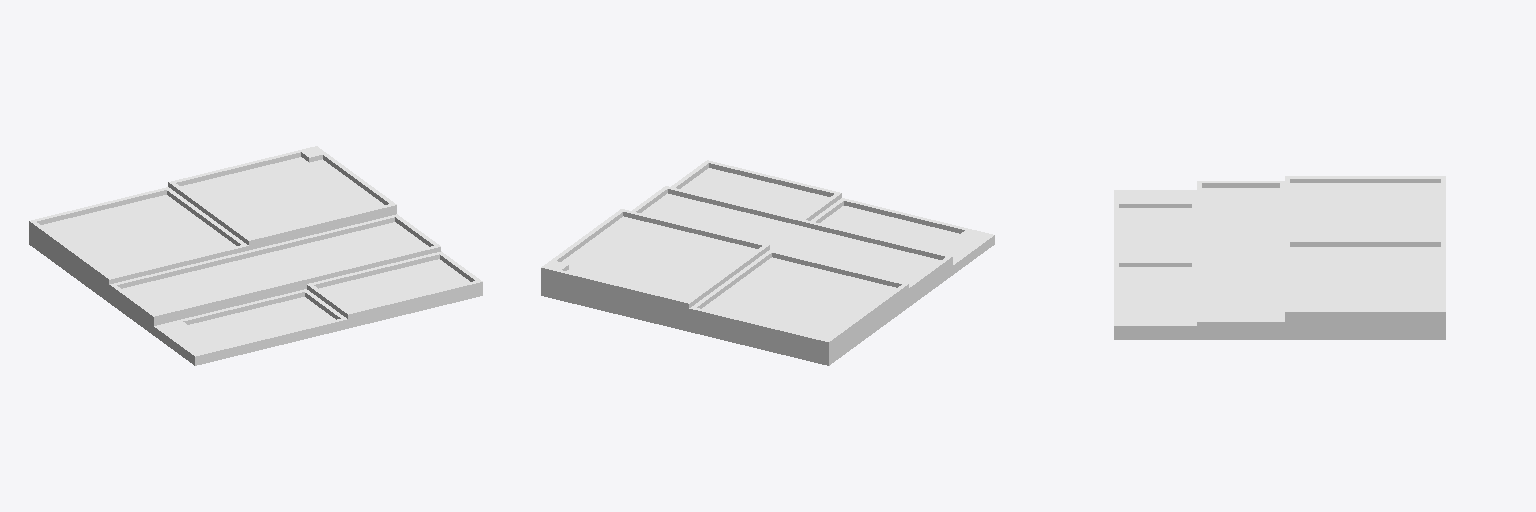
The model's file is world1_1.obj.
3 renders of one model, left to right at view 1: azimuth 30°, elevation 25°; view 2: azimuth 150°, elevation 25°; view 3: azimuth 270°, elevation 25°, orthographic.
Visible parts, largest first — view 1: object 1; view 2: object 1; view 3: object 1.
Part boxes in pixels (bbox=[...]): object 1: bbox=[29, 146, 482, 365]; object 1: bbox=[541, 160, 994, 365]; object 1: bbox=[1114, 176, 1445, 339].
Size of the model in its own units: 25.6 by 2.4 by 25.6.